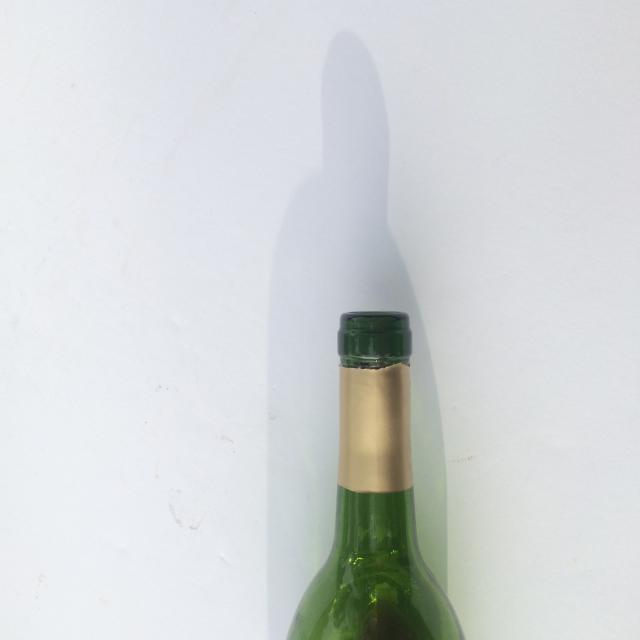glass: (284, 309, 467, 640)
